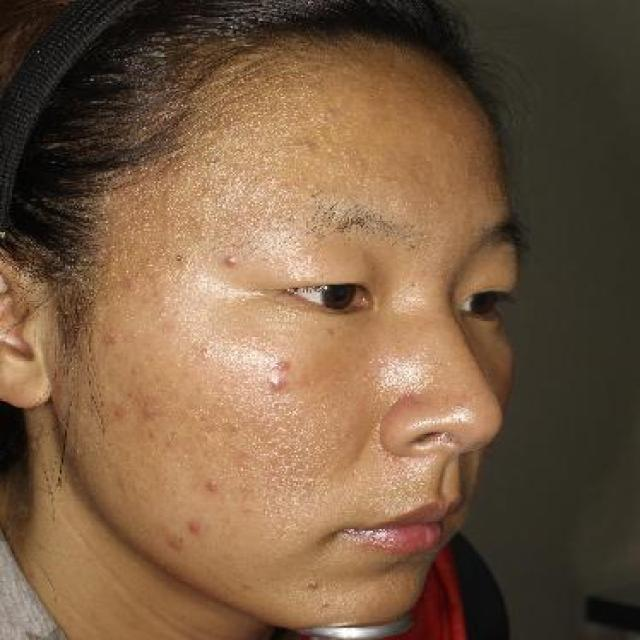nodules: (184, 512, 206, 540), (267, 372, 288, 397), (218, 248, 242, 269), (298, 575, 322, 594), (203, 476, 223, 496), (114, 399, 129, 423)
